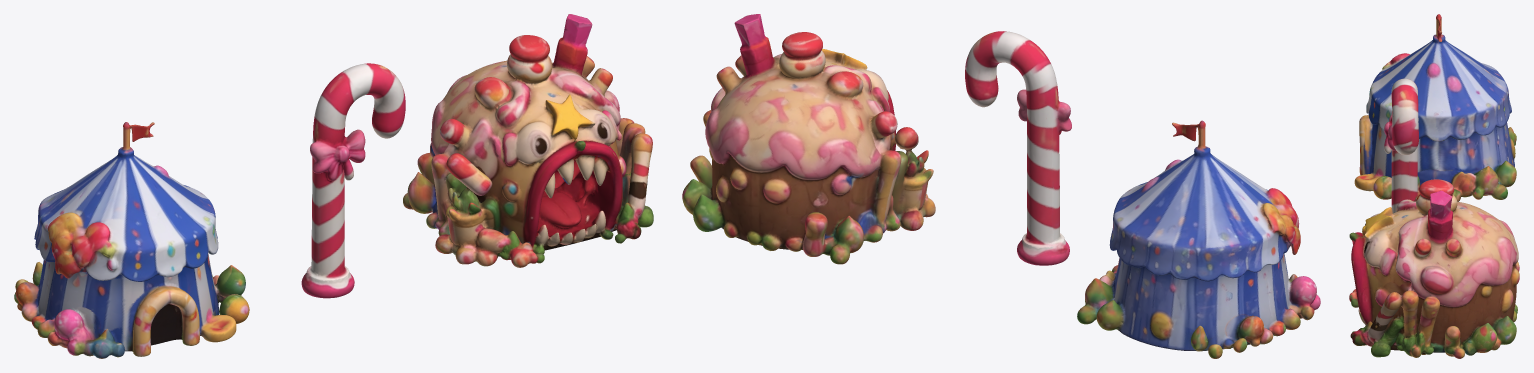
Rendered from Meshy_AI_Whimsical_Candyland_C_1019071310_texture.fbx.
The picture shows the model from 3 angles, left to right: view 1: azimuth 30°, elevation 25°; view 2: azimuth 150°, elevation 25°; view 3: azimuth 270°, elevation 25°; orthographic projection. The views are drawn at different scales.
Visible parts, largest first — view 1: Mesh_0; view 2: Mesh_0; view 3: Mesh_0.
Part boxes in pixels (bbox=[...]): Mesh_0: bbox=[14, 14, 653, 358]; Mesh_0: bbox=[682, 14, 1320, 358]; Mesh_0: bbox=[1349, 14, 1519, 358].
Size of the model in its own units: 189 by 65.09 by 58.58.
1 material, 1 textured.
